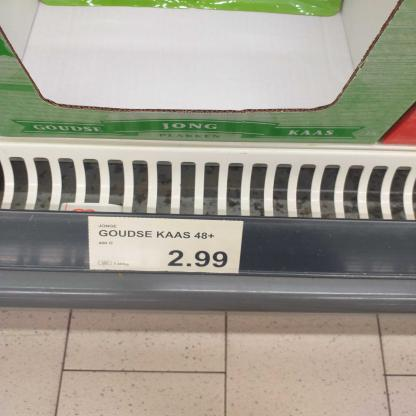prtg: (89, 217, 245, 275)
